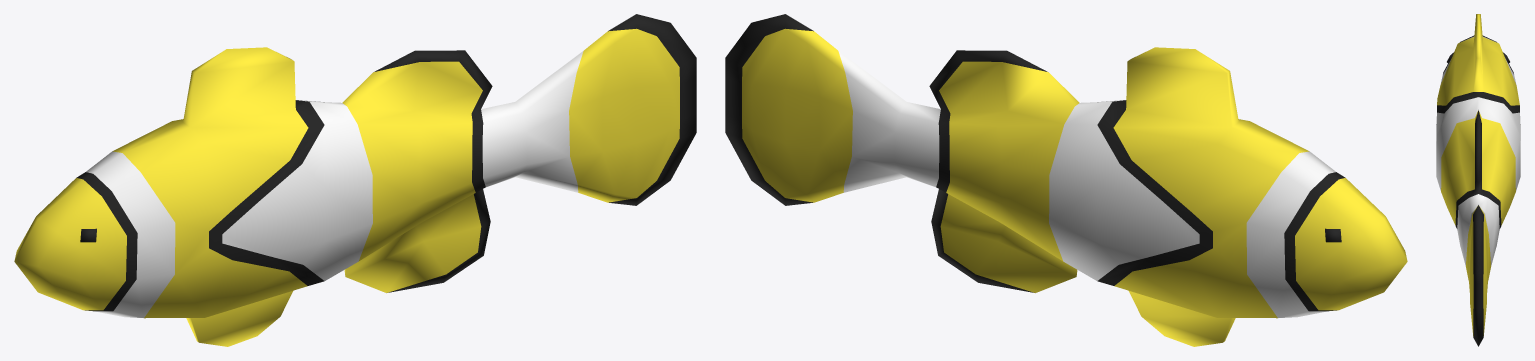
File: Fish_030.glb
3 renders of one model, left to right at view 1: azimuth 30°, elevation 25°; view 2: azimuth 150°, elevation 25°; view 3: azimuth 270°, elevation 25°, orthographic. The views are drawn at different scales.
Visible parts, largest first — view 1: Fish_030; view 2: Fish_030; view 3: Fish_030.
Boxes of the visible parts, left/top/right/bottom form: Fish_030: left=14, top=14, right=696, bottom=346; Fish_030: left=725, top=14, right=1407, bottom=346; Fish_030: left=1436, top=14, right=1520, bottom=346.
Size of the model in its own units: 0.6245 by 0.2609 by 0.0923.
1 material, 1 textured.
